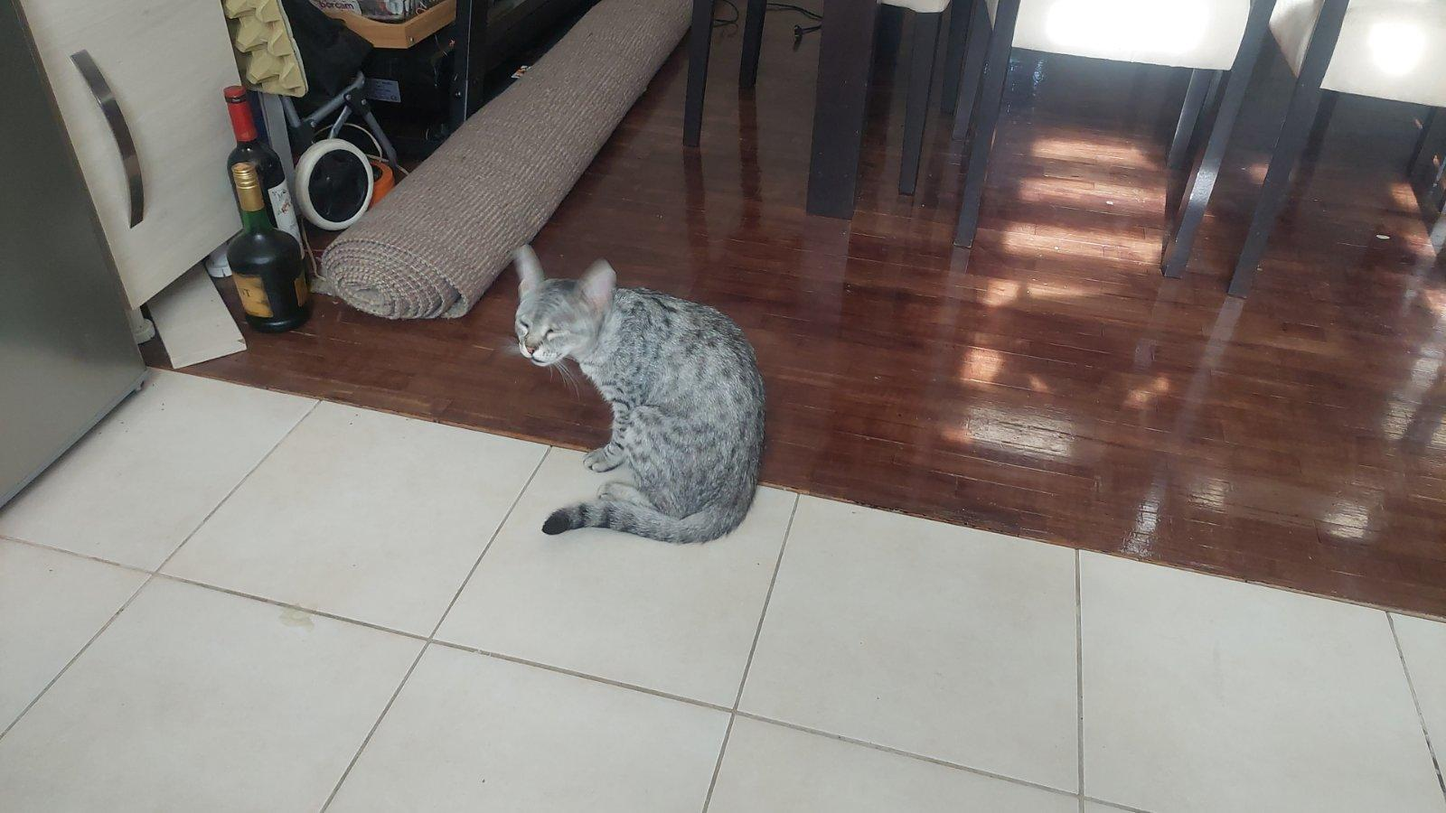macka: (514, 243, 767, 543)
